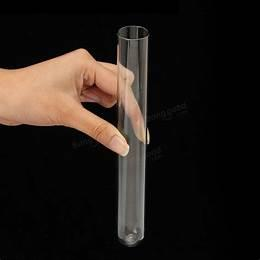Test tube: (102, 4, 158, 243)
